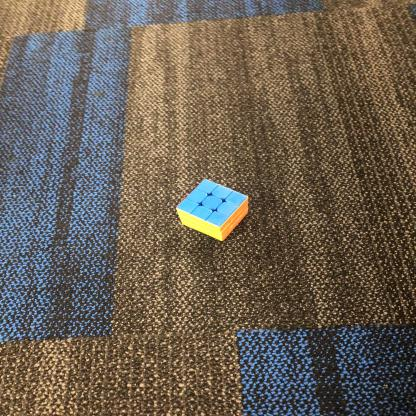SolvedCube: (176, 177, 252, 240)
